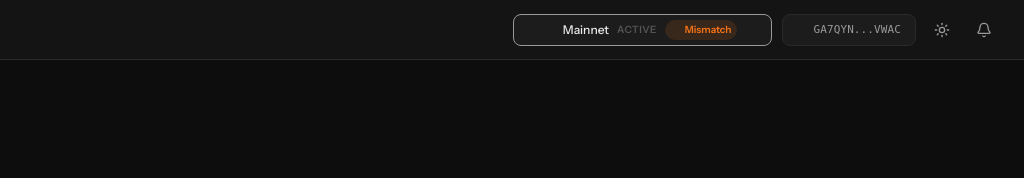
Scenario: TopBar — issue #679 › outside click and touch dismissal › dismisses dropdown when tapping outside via touchstart
Click the button with aria-label "wallet connected" at {"x": 849, "y": 30}, box top-left (782, 14), bottom-right (916, 46)
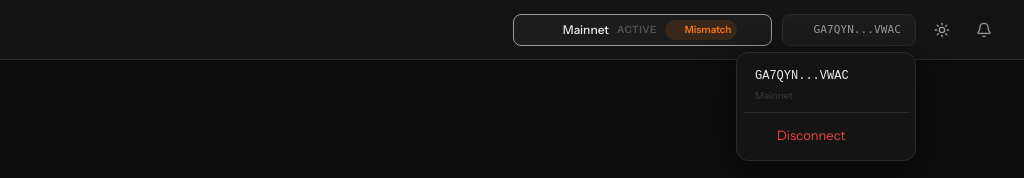
Result: the menu item "Disconnect" is shown at top-left (777, 127), bottom-right (846, 143)
Press the mouse on the element that starts with "Mainnet" at {"x": 512, "y": 30}, box top-left (0, 0), bottom-right (1023, 60)
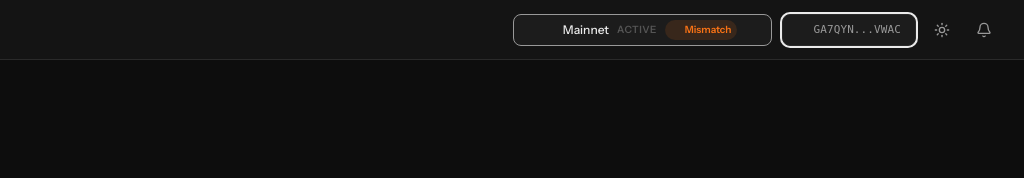
Result: the menu item "Disconnect" is gone
